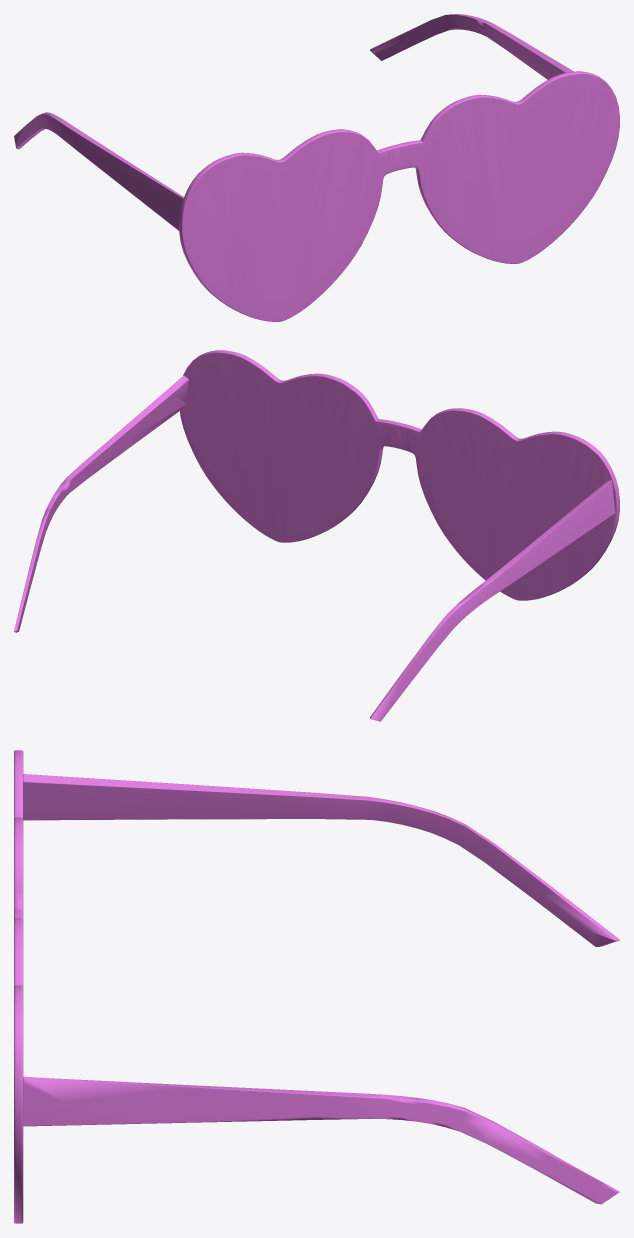
3 views of the same model, one above another, from view 1: azimuth 30°, elevation 25°; view 2: azimuth 150°, elevation 25°; view 3: azimuth 270°, elevation 25° (orthographic). The views are drawn at different scales.
Visible parts, largest first — view 1: pPlane9; view 2: pPlane9; view 3: pPlane9.
Part boxes in pixels (x1,y1,x2,y2): pPlane9: (14, 14, 619, 321); pPlane9: (14, 350, 619, 721); pPlane9: (14, 750, 619, 1223).
Size of the model in its own units: 0.5531 by 0.2134 by 0.4568.
